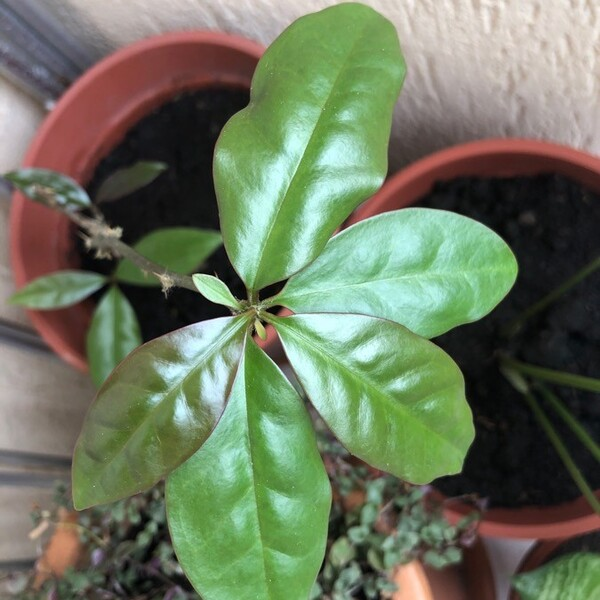obstacle: (33, 43, 486, 579)
